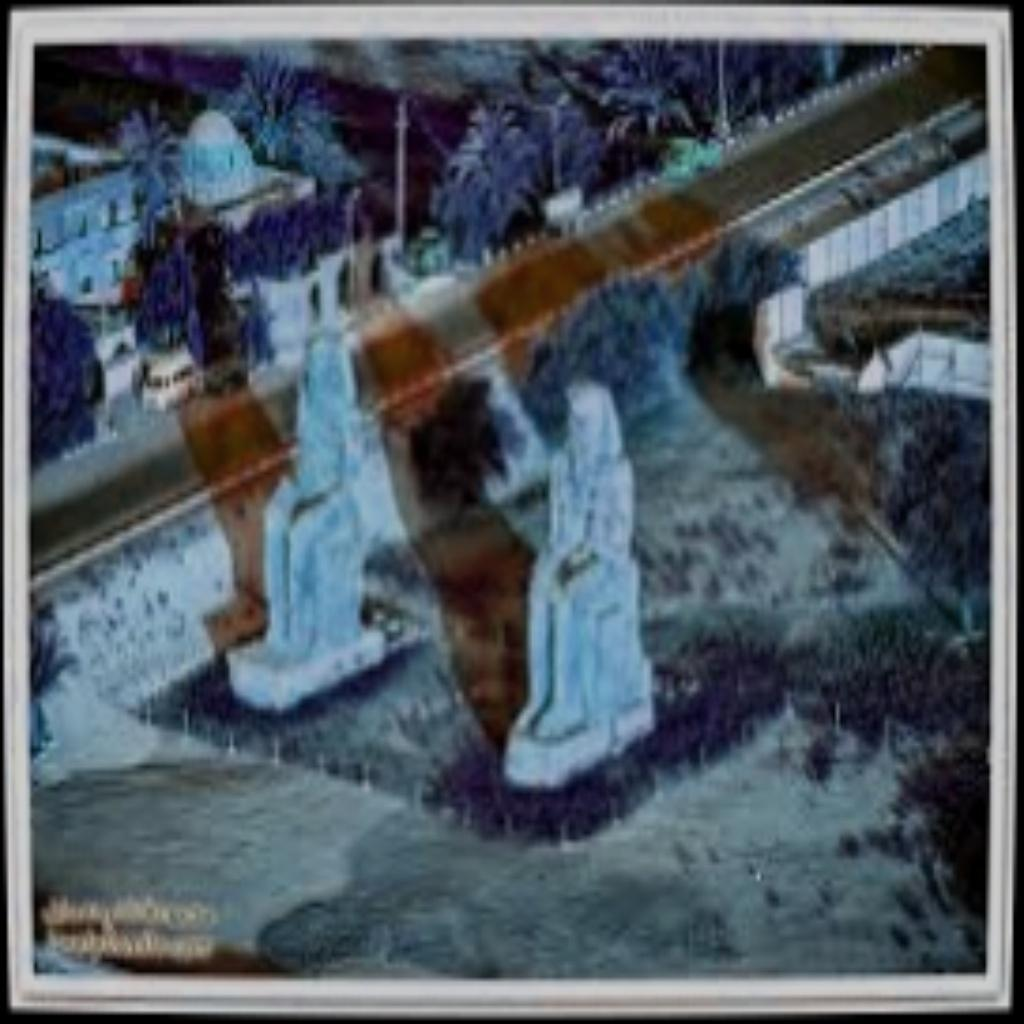Colossoi of Memnon: (493, 370, 659, 792), (256, 321, 392, 670)
